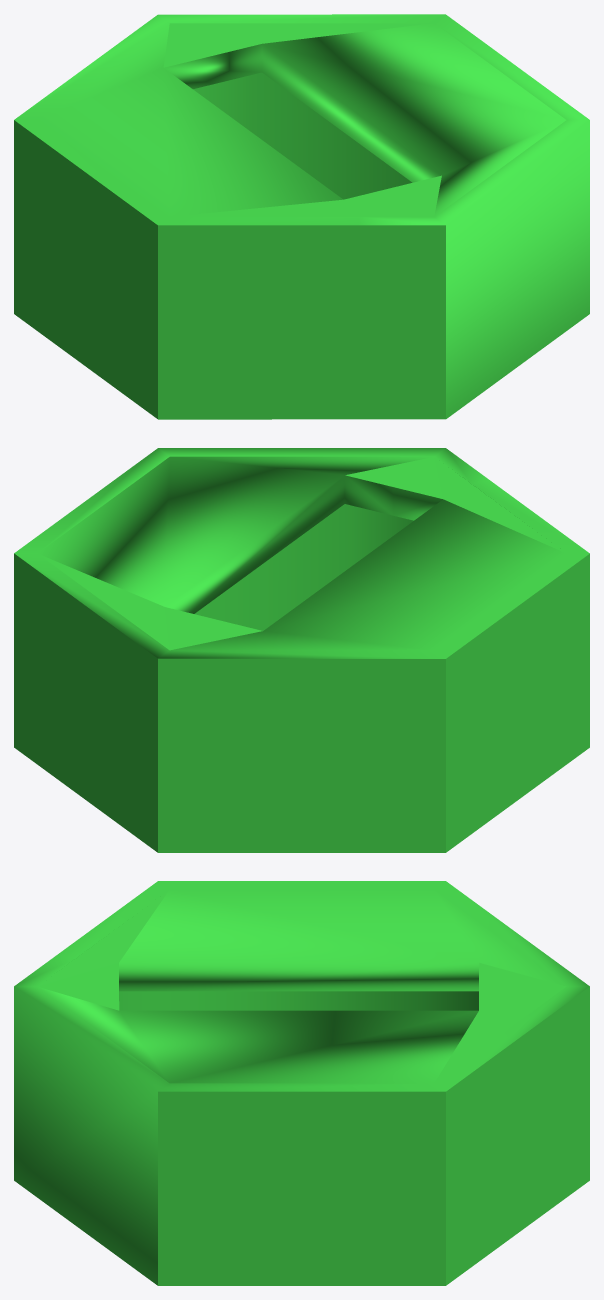
Rendered from ResourceTileStage1_3.fbx.
The picture shows the model from 3 angles, top to bottom: view 1: azimuth 30°, elevation 25°; view 2: azimuth 150°, elevation 25°; view 3: azimuth 270°, elevation 25°; orthographic projection.
Visible parts, largest first — view 1: ResourceTileNEW.002; view 2: ResourceTileNEW.002; view 3: ResourceTileNEW.002.
Part boxes in pixels (left/top/right/bottom): ResourceTileNEW.002: left=14, top=14, right=589, bottom=419; ResourceTileNEW.002: left=14, top=448, right=589, bottom=852; ResourceTileNEW.002: left=14, top=881, right=589, bottom=1285.
Bounding box in the file's own units: 173 × 74.43 × 200.
